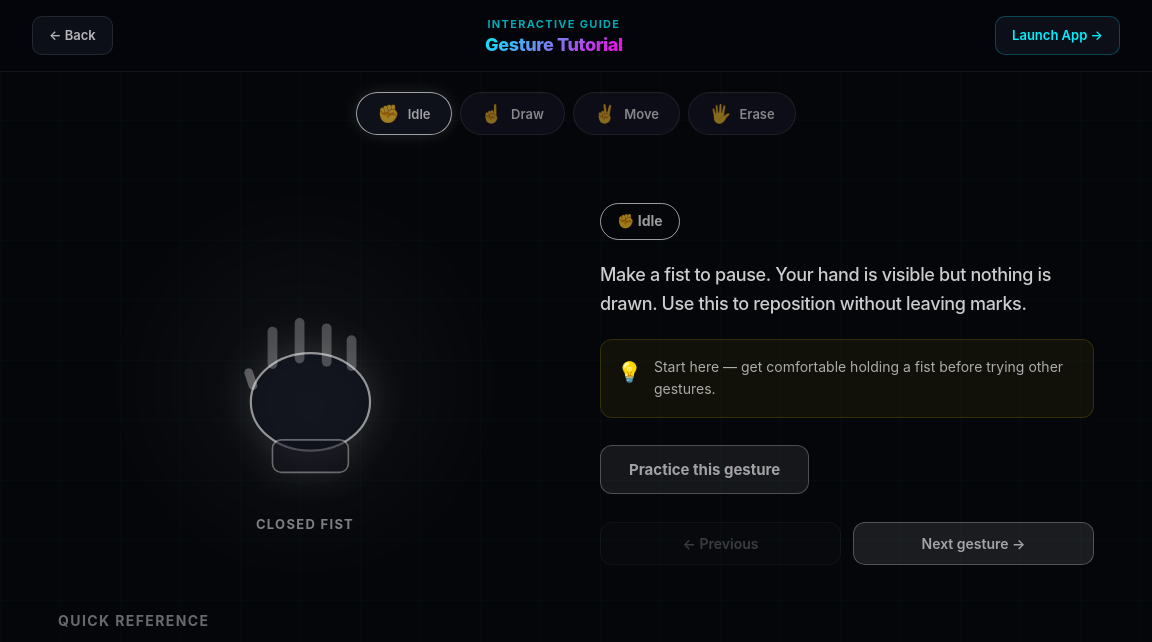
Scenario: GestureTutorial › navigates between gesture steps
Check: the text "Closed fist" is shown, box x1=256 y1=514 x2=354 y2=534
Click the button "Next gesture →".
click(974, 543)  # box x1=853 y1=522 x2=1094 y2=565
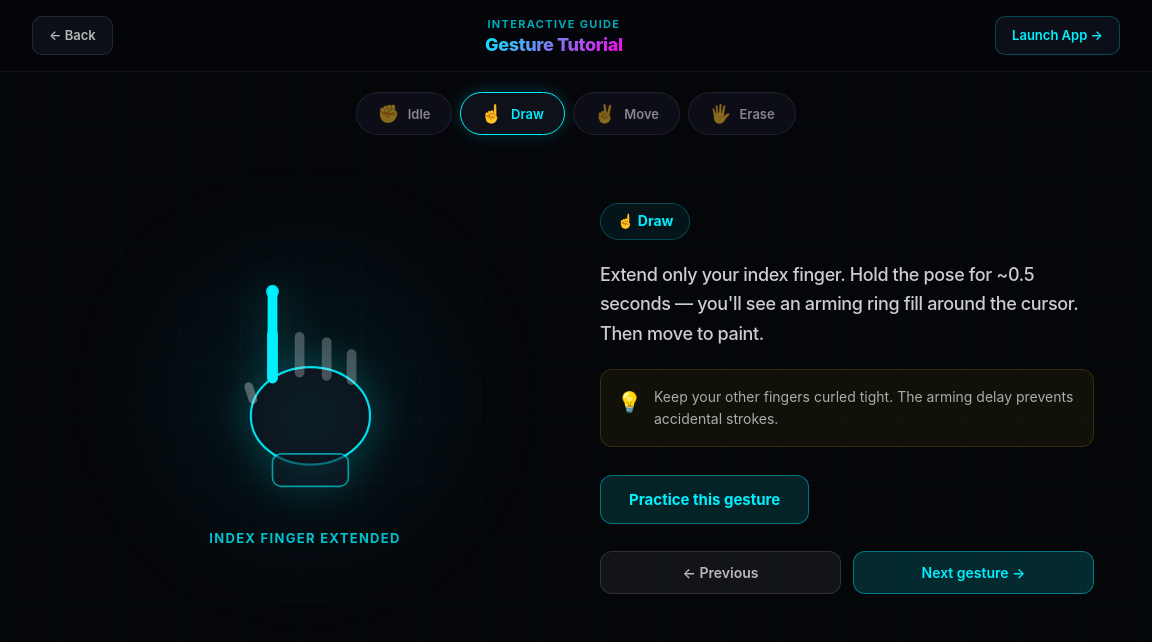
Check: the text "Index finger extended" is shown, box x1=209 y1=528 x2=401 y2=549
Click the button "← Previous".
click(720, 573)  # box x1=600 y1=551 x2=841 y2=594
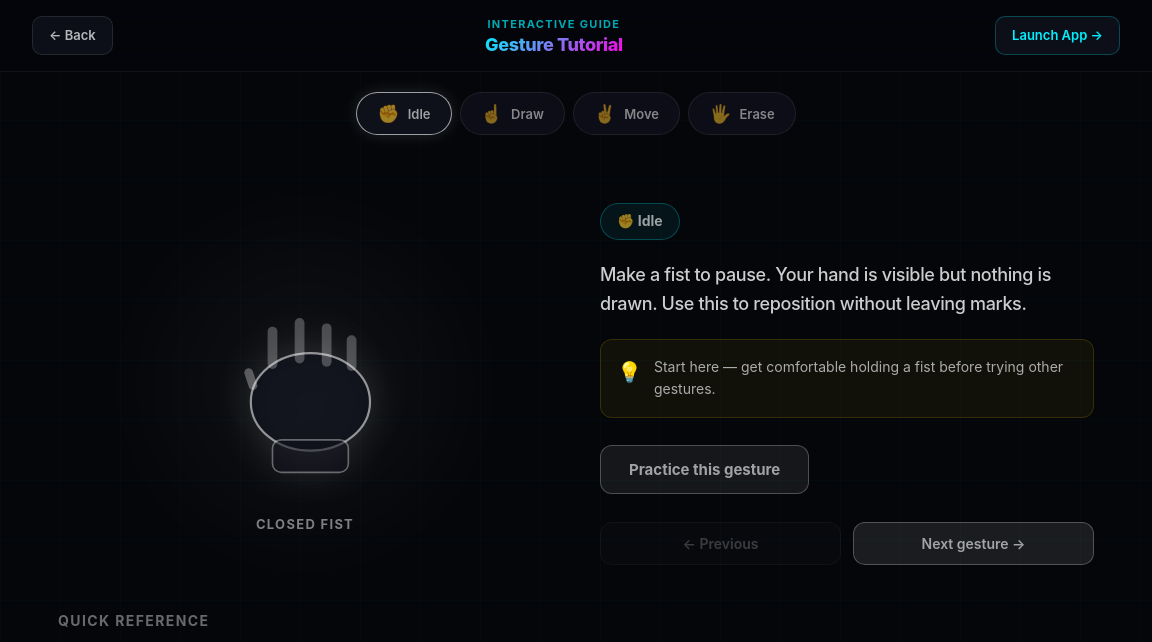
Check: the text "Closed fist" is shown, box x1=256 y1=514 x2=354 y2=534
